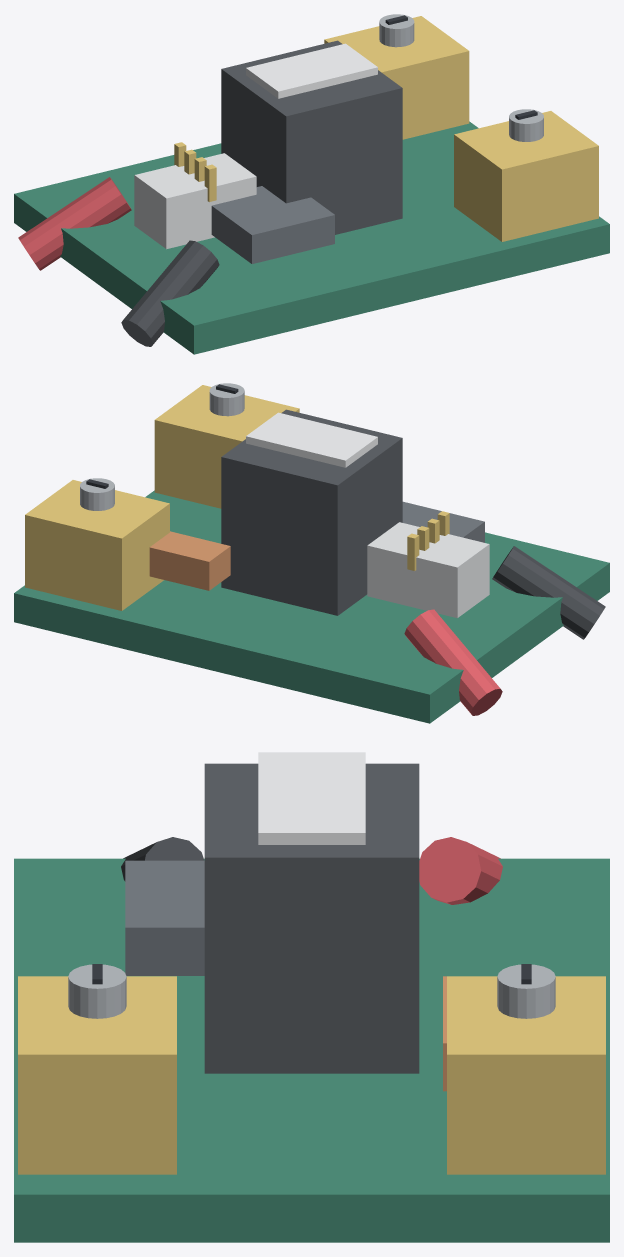
Rendered from power_120a.glb.
3 views of the same model, one above another, from view 1: azimuth 30°, elevation 25°; view 2: azimuth 150°, elevation 25°; view 3: azimuth 270°, elevation 25° (orthographic). The views are drawn at different scales.
Visible parts, largest first — view 1: pcb, hall_sensor, terminal_1, terminal_0, telemetry_socket, processor, label, power_black/seg_0, power_red/seg_0, terminal_screw_0, terminal_screw_1; view 2: pcb, hall_sensor, terminal_0, terminal_1, telemetry_socket, label, power_red/seg_0, power_black/seg_0, shunt, processor, terminal_screw_1, terminal_screw_0; view 3: pcb, hall_sensor, terminal_0, terminal_1, label, processor, power_red/seg_0, terminal_screw_0, terminal_screw_1, power_black/seg_0.
Boxes of the visible parts, bbox=[...] form: pcb: bbox=[14, 121, 609, 354]; hall_sensor: bbox=[221, 40, 402, 234]; terminal_1: bbox=[454, 111, 598, 241]; terminal_0: bbox=[324, 16, 469, 139]; telemetry_socket: bbox=[134, 153, 256, 249]; processor: bbox=[211, 186, 334, 263]; label: bbox=[246, 43, 377, 98]; power_black/seg_0: bbox=[121, 240, 219, 346]; power_red/seg_0: bbox=[18, 177, 131, 270]; terminal_screw_0: bbox=[379, 14, 414, 47]; terminal_screw_1: bbox=[509, 109, 543, 141]; pcb: bbox=[14, 490, 609, 723]; hall_sensor: bbox=[221, 409, 402, 615]; terminal_0: bbox=[25, 480, 169, 610]; terminal_1: bbox=[154, 385, 299, 508]; telemetry_socket: bbox=[367, 522, 489, 618]; label: bbox=[246, 412, 377, 467]; power_red/seg_0: bbox=[404, 609, 502, 715]; power_black/seg_0: bbox=[492, 546, 605, 639]; shunt: bbox=[149, 531, 230, 590]; processor: bbox=[402, 501, 484, 542]; terminal_screw_1: bbox=[209, 383, 244, 416]; terminal_screw_0: bbox=[80, 478, 114, 510]; pcb: bbox=[14, 858, 609, 1242]; hall_sensor: bbox=[204, 763, 419, 1073]; terminal_0: bbox=[447, 976, 605, 1174]; terminal_1: bbox=[18, 976, 176, 1174]; label: bbox=[258, 752, 365, 844]; processor: bbox=[125, 860, 204, 975]; power_red/seg_0: bbox=[419, 837, 502, 904]; terminal_screw_0: bbox=[497, 964, 555, 1018]; terminal_screw_1: bbox=[68, 964, 126, 1018]; power_black/seg_0: bbox=[121, 837, 204, 881].
Bounding box in the file's own units: 0.0644 × 0.0256 × 0.045.
